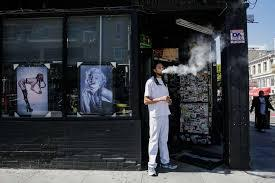smoke: (161, 41, 225, 79)
